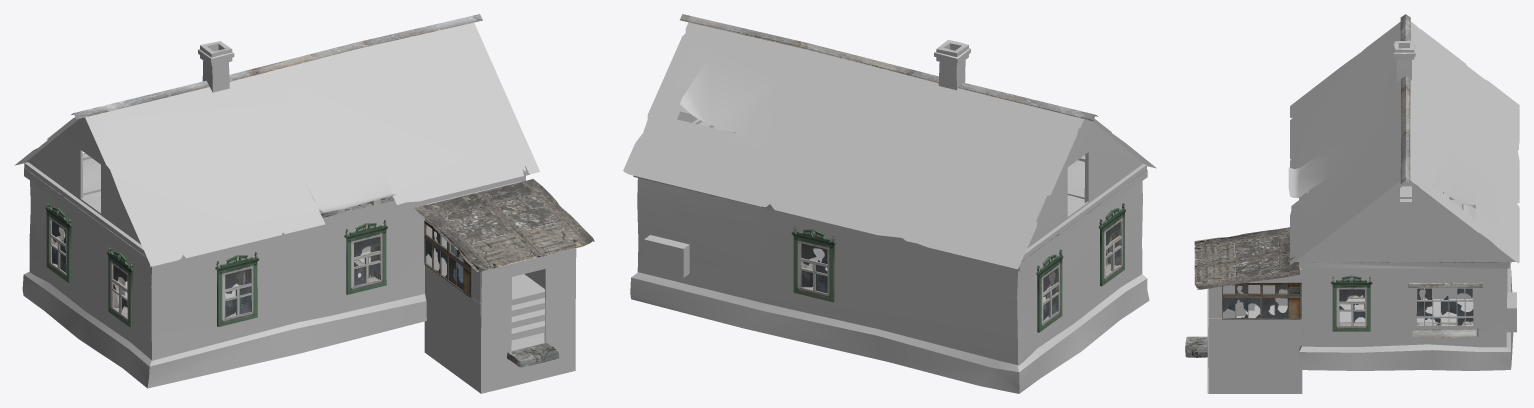
The model's file is Houses_Ready_01.FBX.
3 views of the same model, side by side, from view 1: azimuth 30°, elevation 25°; view 2: azimuth 150°, elevation 25°; view 3: azimuth 270°, elevation 25° (orthographic). The views are drawn at different scales.
Parts seen in each view (by area): view 1: Roof_01, Corps_01_1, Porch_01, Foundation_01, Attic_01, Windows_01_2 (×2), Windows_01 (×2), Peak_01, Chimney_01, Windows_Porch_01, Porch_01_2; view 2: Roof_01, Corps_01_1, Foundation_01, Attic_01, Windows_01_2 (×2), Peak_01, Electrical_Box_03, Windows_01, Chimney_01; view 3: Roof_01, Corps_01_1, Porch_01, Attic_01, Foundation_01, Windows_01, Windows_Big_02, Windows_Porch_01, Peak_01, Chimney_01, Outflow_Big_01, Porch_01_2 (+1 smaller).
Part boxes in pixels (left/top/right/bottom): Roof_01: left=14, top=22, right=539, bottom=266; Corps_01_1: left=24, top=153, right=530, bottom=360; Porch_01: left=414, top=179, right=594, bottom=393; Foundation_01: left=22, top=271, right=426, bottom=388; Attic_01: left=24, top=117, right=526, bottom=256; Windows_01_2 (×2): left=45, top=201, right=259, bottom=326; Windows_01 (×2): left=107, top=220, right=388, bottom=327; Peak_01: left=71, top=14, right=482, bottom=119; Chimney_01: left=198, top=41, right=234, bottom=92; Windows_Porch_01: left=424, top=220, right=472, bottom=298; Porch_01_2: left=507, top=343, right=559, bottom=367; Roof_01: left=623, top=22, right=1156, bottom=269; Corps_01_1: left=633, top=155, right=1147, bottom=365; Foundation_01: left=630, top=272, right=1149, bottom=393; Attic_01: left=677, top=106, right=1146, bottom=260; Windows_01_2 (×2): left=791, top=225, right=1063, bottom=332; Peak_01: left=680, top=14, right=1098, bottom=120; Electrical_Box_03: left=644, top=235, right=689, bottom=277; Windows_01: left=1098, top=203, right=1125, bottom=286; Chimney_01: left=934, top=40, right=970, bottom=90; Roof_01: left=1288, top=21, right=1519, bottom=265; Corps_01_1: left=1299, top=262, right=1510, bottom=347; Porch_01: left=1194, top=227, right=1302, bottom=393; Attic_01: left=1295, top=101, right=1515, bottom=261; Foundation_01: left=1299, top=262, right=1513, bottom=370; Windows_01: left=1330, top=275, right=1372, bottom=331; Windows_Big_02: left=1411, top=288, right=1478, bottom=329; Windows_Porch_01: left=1222, top=282, right=1301, bottom=319; Peak_01: left=1400, top=14, right=1410, bottom=183; Chimney_01: left=1393, top=41, right=1415, bottom=82; Outflow_Big_01: left=1412, top=328, right=1478, bottom=337; Porch_01_2: left=1185, top=336, right=1207, bottom=357.
Size of the model in its own units: 1262 by 1072 by 882.
